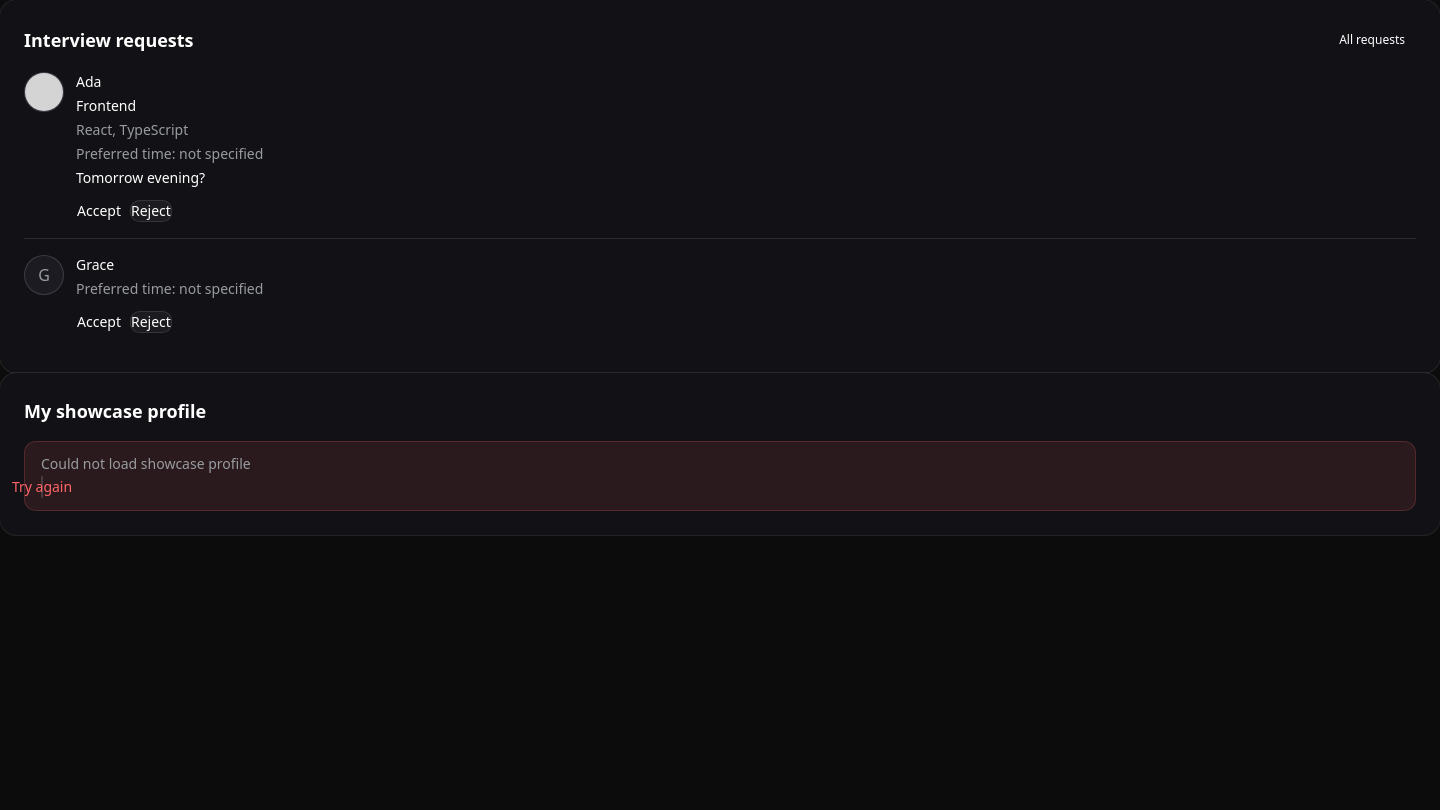
Test case: изолирует ошибки загрузки showcase-status и поддерживает повторную попытку
expect the text "Ada" is shown: met, box [76, 72, 101, 91]
Click the button "Try again": (42, 487) [41, 476, 43, 498]
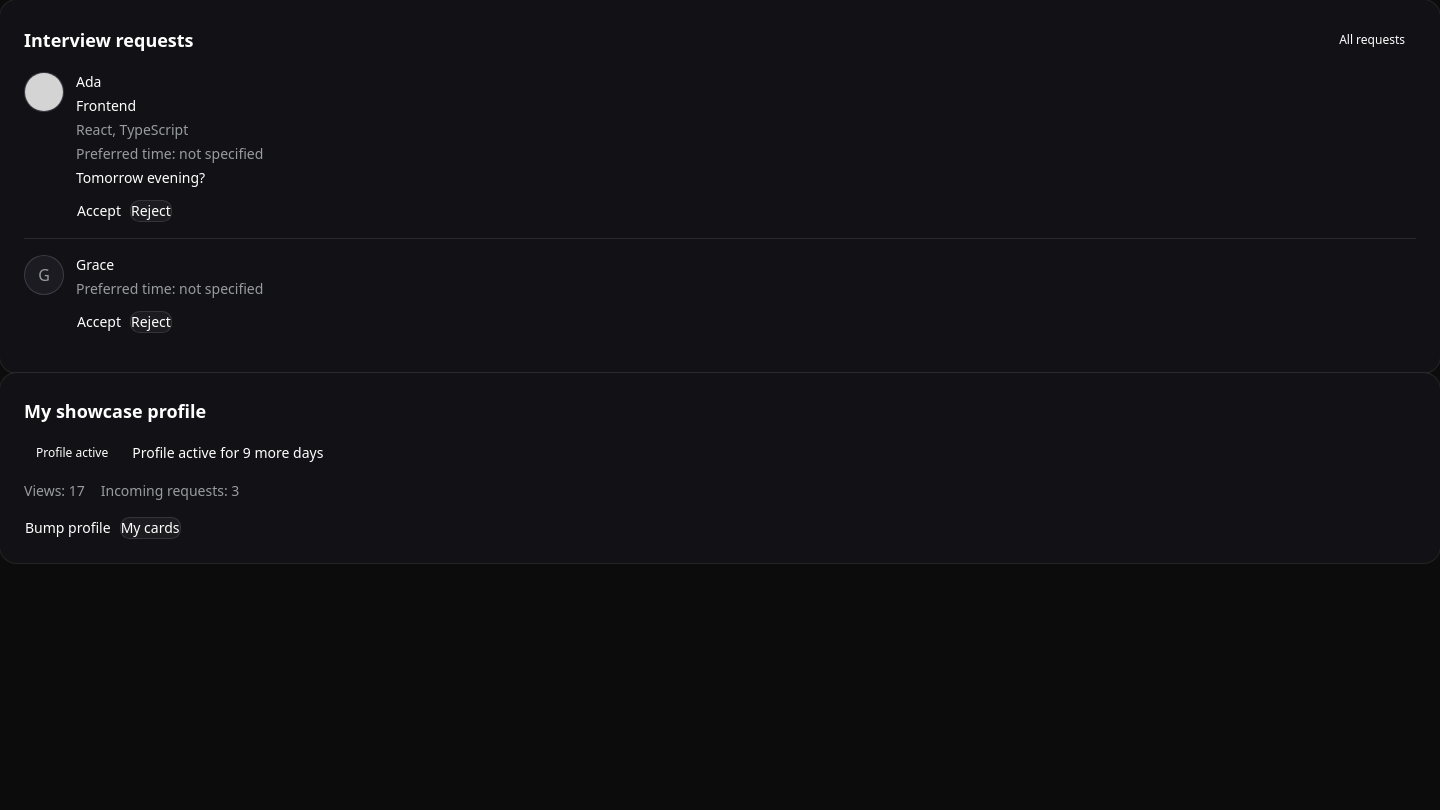
expect the message "Could not load showcase profile Try again" is gone: met
